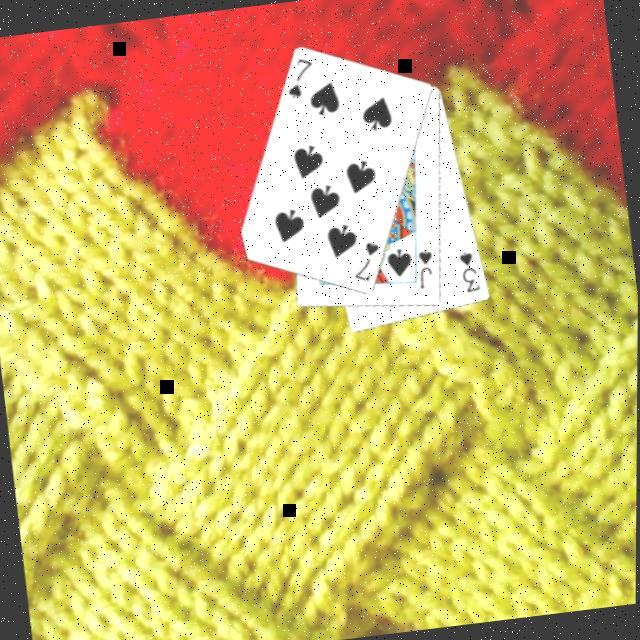3S: (454, 246, 483, 295)
7S: (279, 52, 318, 102), (346, 236, 384, 286)
JS: (411, 244, 438, 292)
